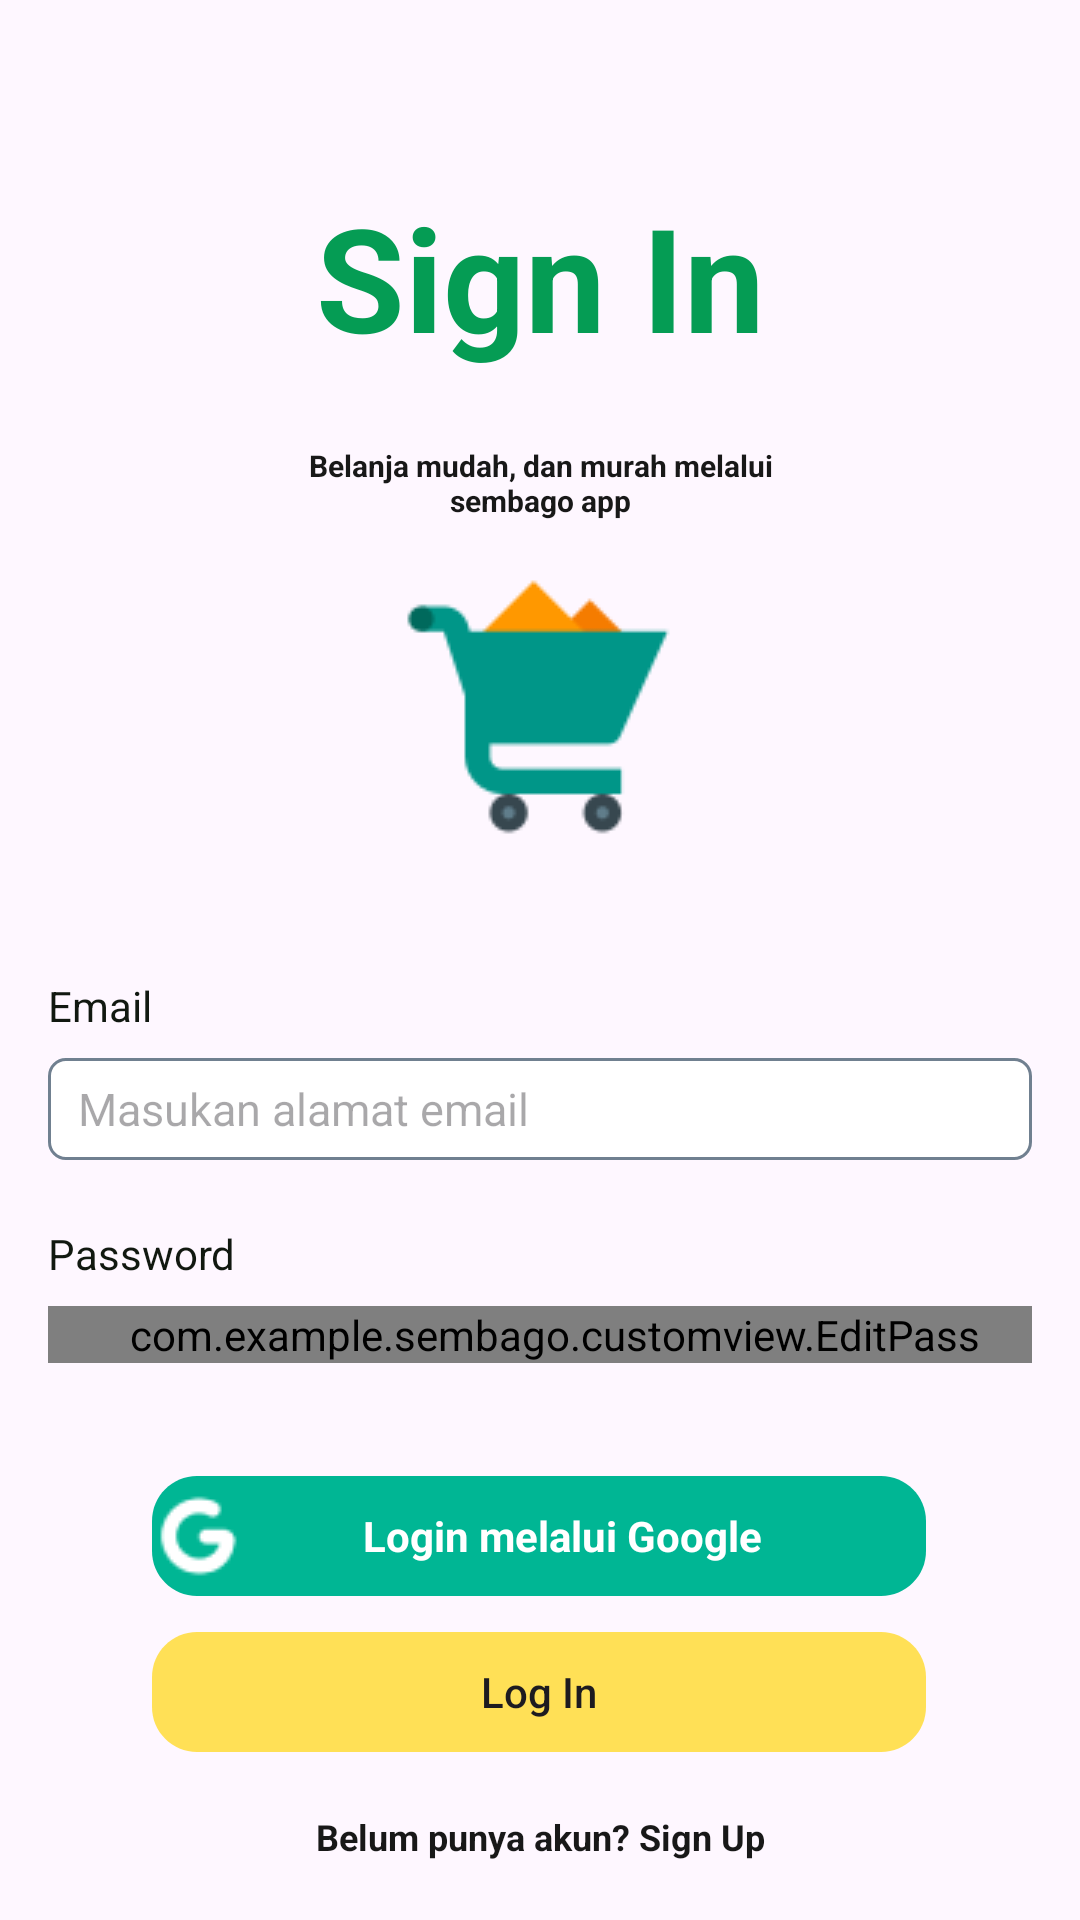

Icons on this 1080w x 1920h Android screen, each with the point to tap as point (x, y):
buying: point (538, 707)
